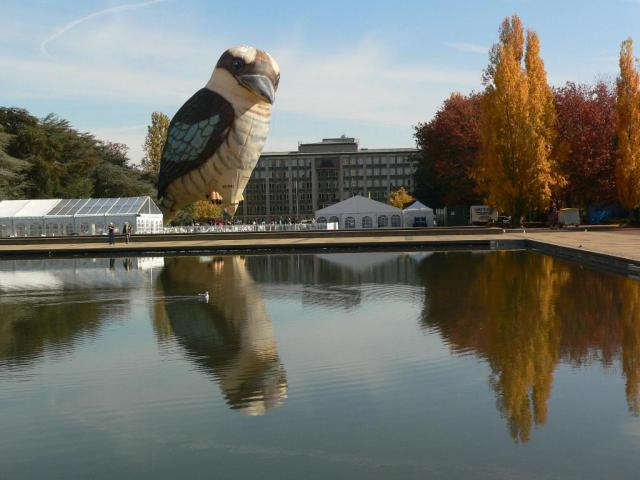Bird: (156, 40, 282, 227)
